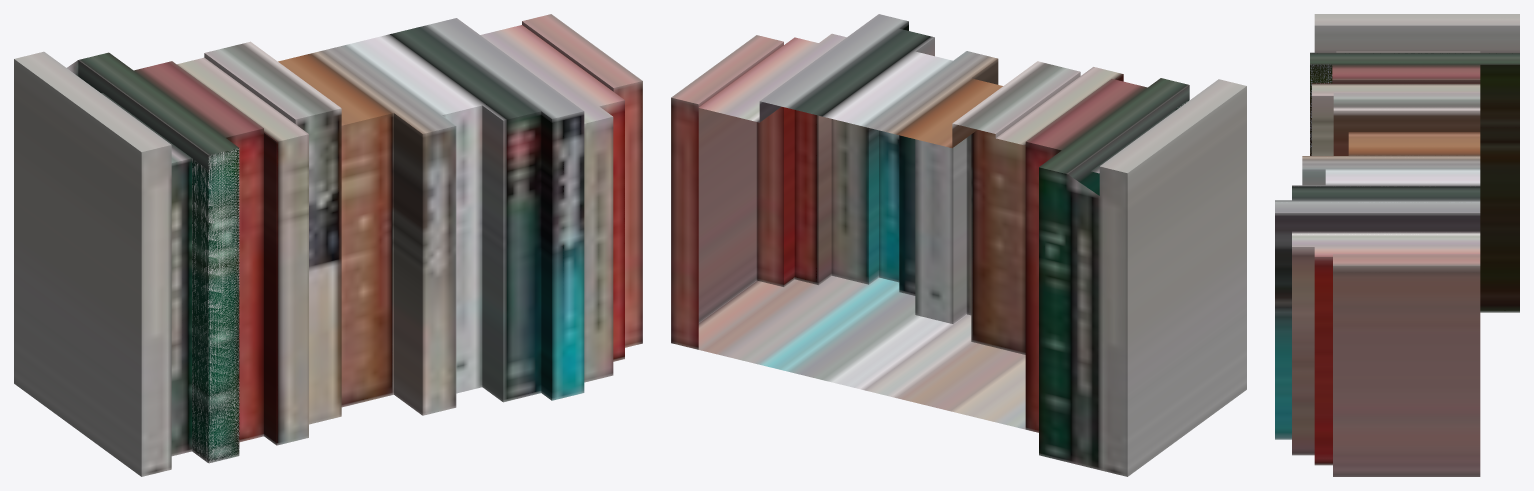
The model's file is buku1.fbx.
3 views of the same model, side by side, from view 1: azimuth 30°, elevation 25°; view 2: azimuth 150°, elevation 25°; view 3: azimuth 270°, elevation 25° (orthographic). The views are drawn at different scales.
Visible parts, largest first — view 1: Componente_3_1; view 2: Componente_3_1; view 3: Componente_3_1.
Part boxes in pixels (left/top/right/bottom): Componente_3_1: left=14, top=14, right=642, bottom=476; Componente_3_1: left=671, top=14, right=1246, bottom=476; Componente_3_1: left=1275, top=14, right=1519, bottom=476.
Bounding box in the file's own units: 69.9 × 42.3 × 35.9.
